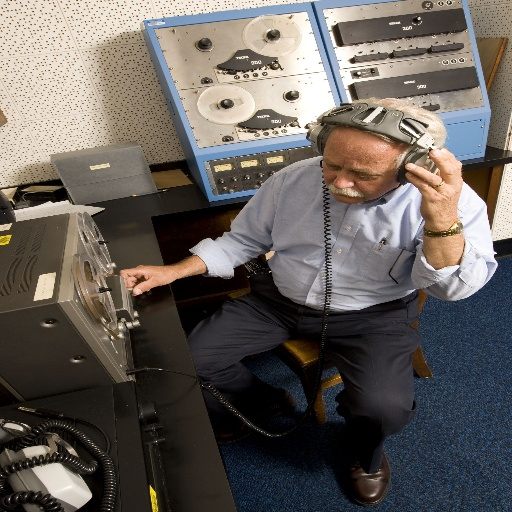hand: (401, 147, 464, 226), (114, 257, 190, 295)
